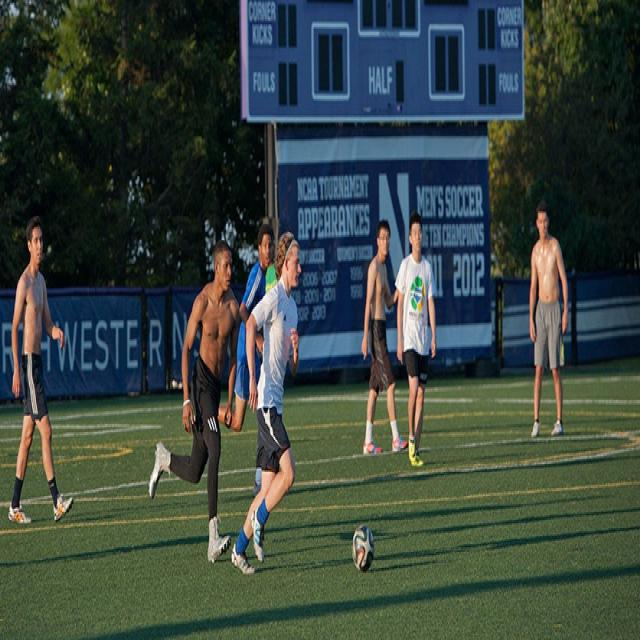body: (147, 236, 240, 566), (227, 224, 305, 578), (5, 212, 75, 526), (358, 216, 410, 456), (523, 195, 572, 445), (392, 205, 437, 475), (217, 221, 273, 432), (266, 235, 277, 299)
